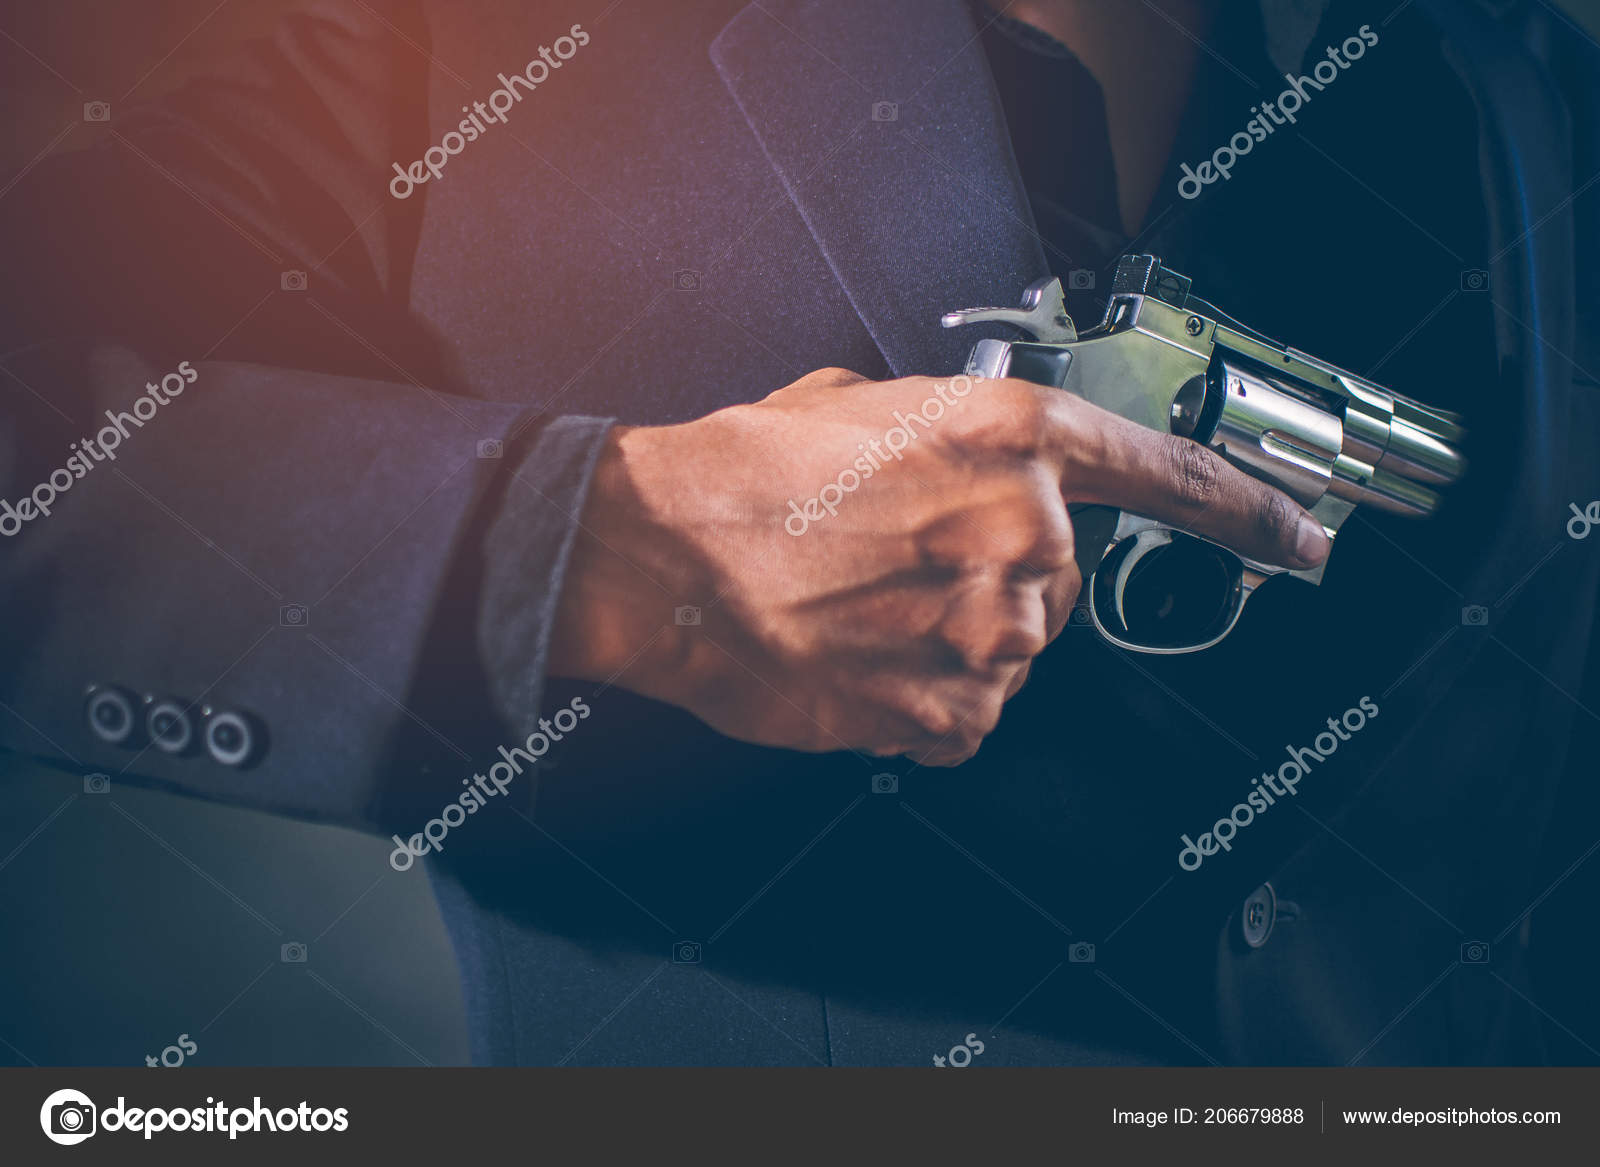Revolver: (817, 232, 1502, 691)
